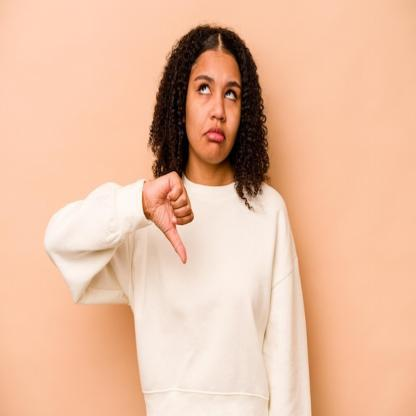thumb_down: (140, 166, 198, 268)
